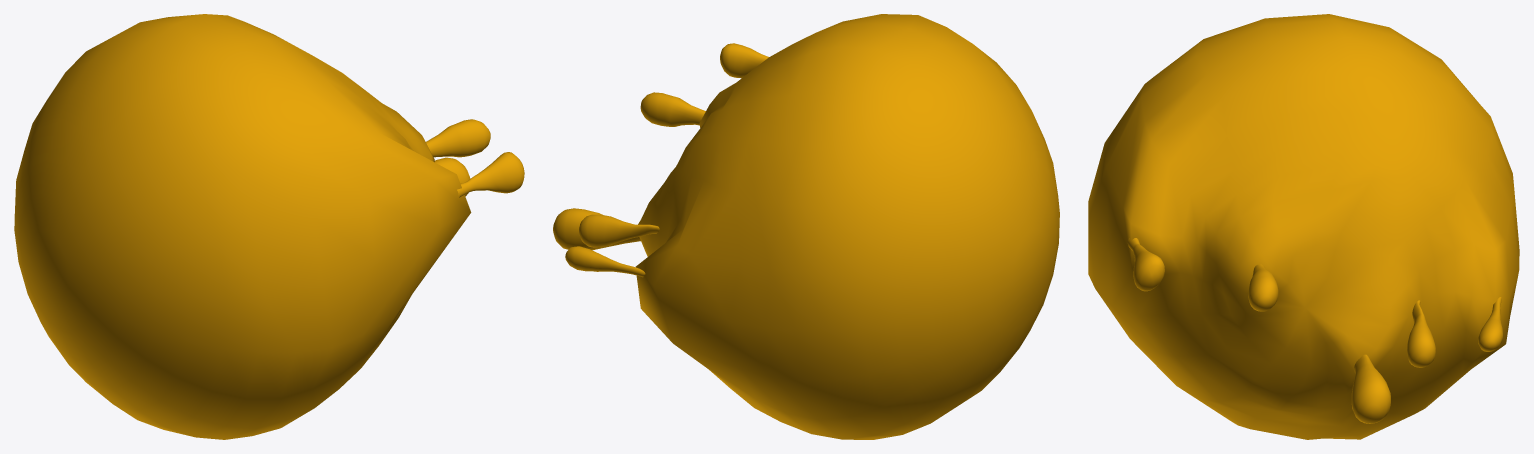
File: bullet_orange.fbx
3 renders of one model, left to right at view 1: azimuth 30°, elevation 25°; view 2: azimuth 150°, elevation 25°; view 3: azimuth 270°, elevation 25°, orthographic. The views are drawn at different scales.
Parts seen in each view (by area): view 1: pasted__pasted__pasted__polySurface21; view 2: pasted__pasted__pasted__polySurface21; view 3: pasted__pasted__pasted__polySurface21.
Part boxes in pixels (left/top/right/bottom): pasted__pasted__pasted__polySurface21: left=14, top=14, right=524, bottom=439; pasted__pasted__pasted__polySurface21: left=553, top=14, right=1059, bottom=439; pasted__pasted__pasted__polySurface21: left=1088, top=14, right=1519, bottom=439.
Bounding box in the file's own units: 2.26 × 1.88 × 1.87.
